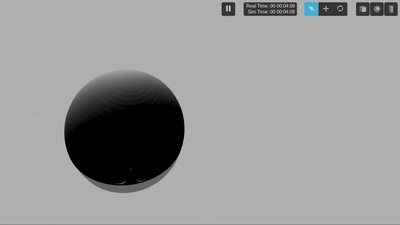mira_robot: (66, 70, 186, 193)
